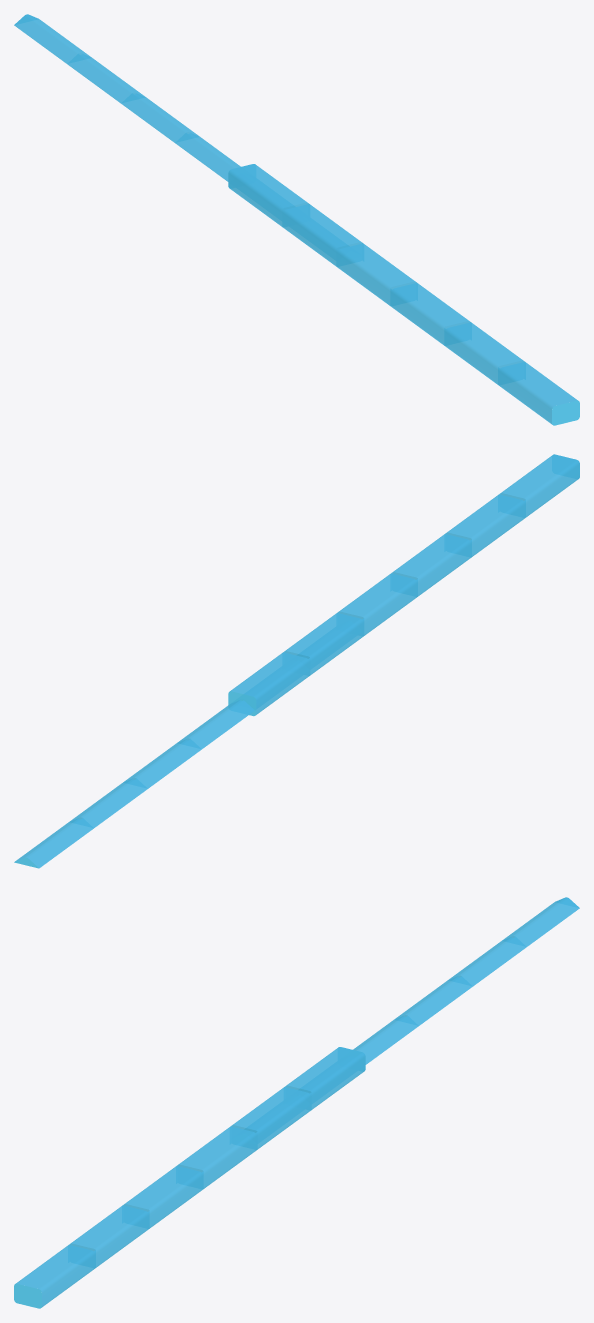
The model's file is precomputed_components_qkv.glb.
3 views of the same model, one above another, from view 1: azimuth 30°, elevation 25°; view 2: azimuth 150°, elevation 25°; view 3: azimuth 330°, elevation 25° (orthographic).
Bounding box in the file's own units: 150 × 100 × 5000.
